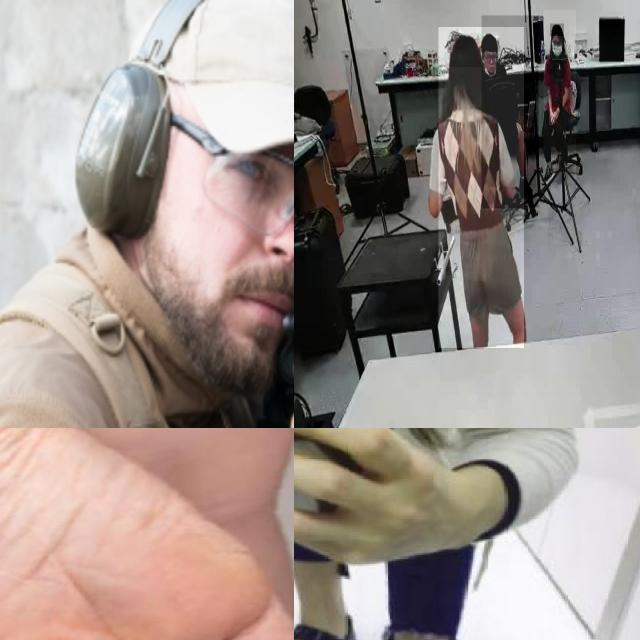Barefoots: (0, 428, 294, 640)
Ear-protection: (73, 0, 294, 400)
face_mask: (551, 32, 563, 58)
face_nomask: (483, 52, 497, 71)
hand_noglove: (550, 109, 558, 124), (549, 108, 555, 125)
head_nohelmet: (449, 33, 481, 68), (480, 32, 498, 50), (550, 23, 564, 37)
person: (438, 27, 524, 349), (481, 15, 539, 208), (544, 10, 576, 184)
